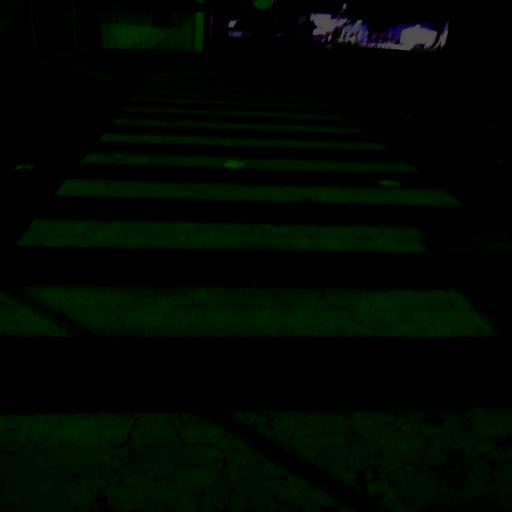crosswalk: (41, 149, 472, 217), (107, 103, 372, 138)
